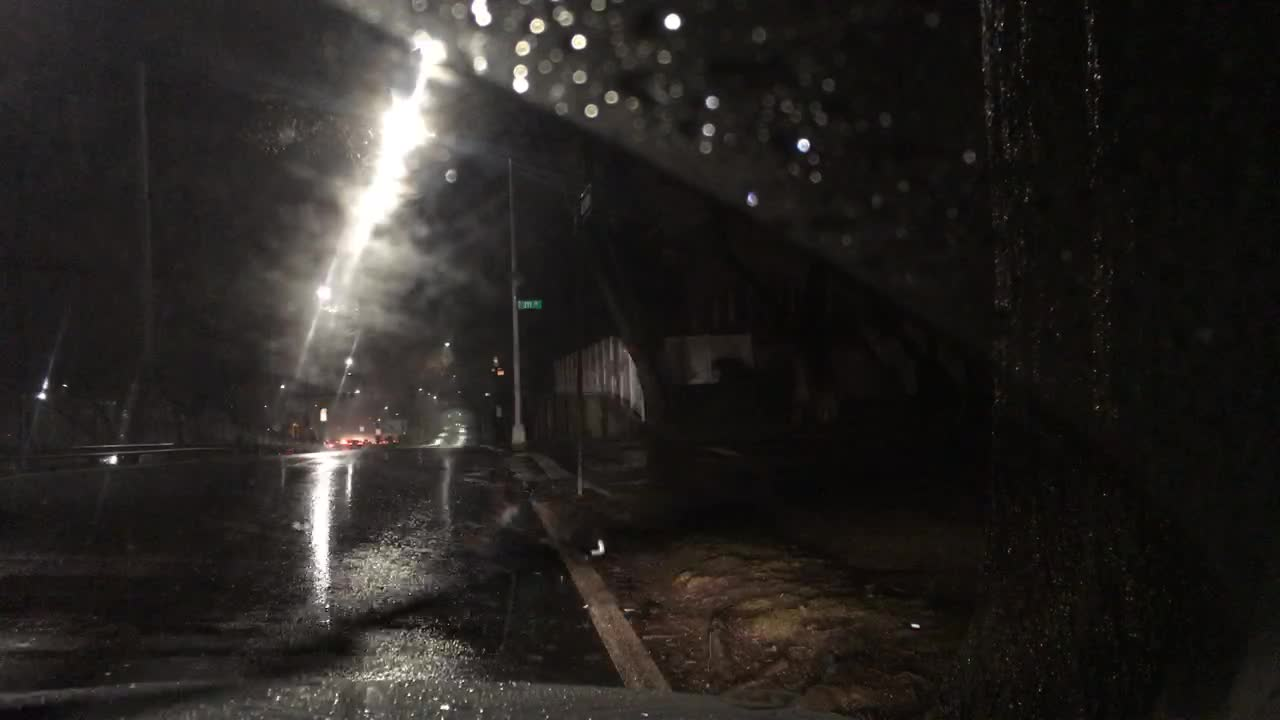car: (379, 436, 400, 447), (343, 438, 364, 449), (323, 436, 339, 449), (364, 438, 374, 448)
traffic sign: (571, 179, 595, 218), (515, 297, 542, 308)
